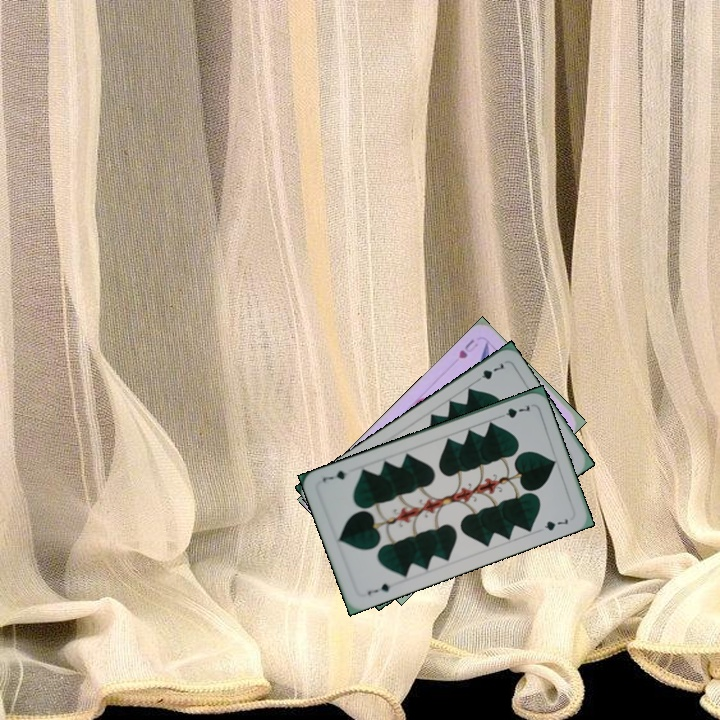G7: (470, 359, 508, 385), (494, 401, 534, 421), (363, 579, 393, 598)
HU: (454, 335, 480, 361)
